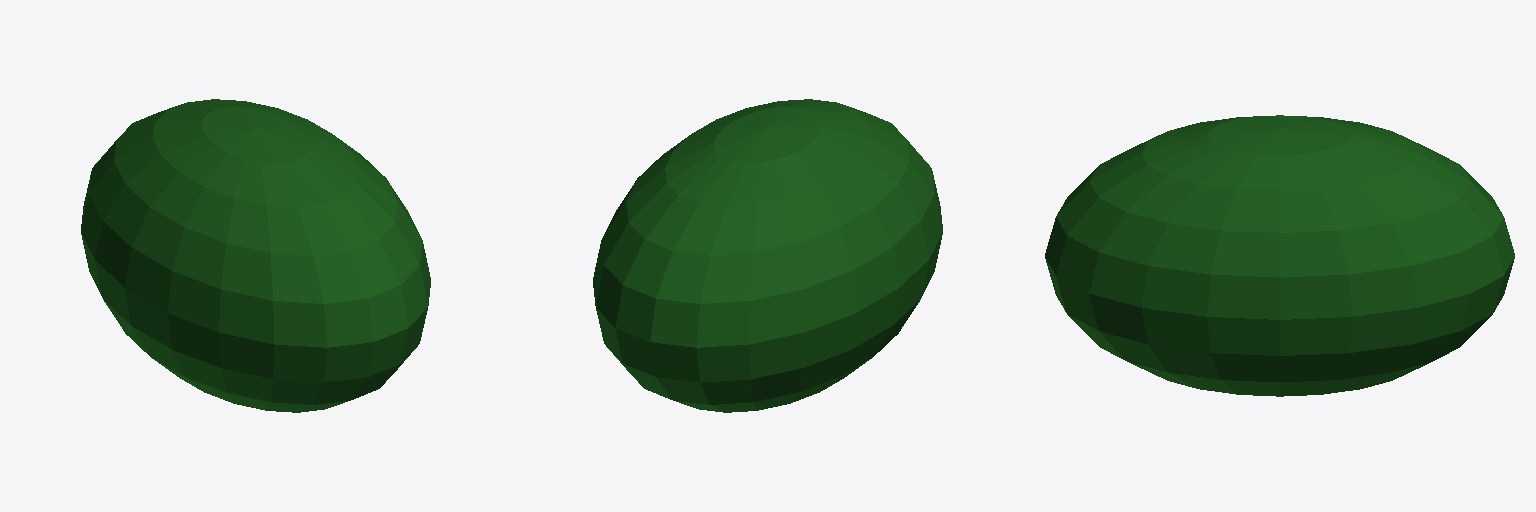
File: original-27.obj
3 renders of one model, left to right at view 1: azimuth 30°, elevation 25°; view 2: azimuth 150°, elevation 25°; view 3: azimuth 270°, elevation 25°, orthographic.
Visible parts, largest first — view 1: SimpleSphere02_1_2/SimpleSphere02_1_1/mesh7/mesh7-geometry#mesh7; view 2: SimpleSphere02_1_2/SimpleSphere02_1_1/mesh7/mesh7-geometry#mesh7; view 3: SimpleSphere02_1_2/SimpleSphere02_1_1/mesh7/mesh7-geometry#mesh7.
Boxes of the visible parts, box(x1,y1,x2,y2) form: SimpleSphere02_1_2/SimpleSphere02_1_1/mesh7/mesh7-geometry#mesh7: box(81, 99, 430, 412); SimpleSphere02_1_2/SimpleSphere02_1_1/mesh7/mesh7-geometry#mesh7: box(593, 99, 942, 412); SimpleSphere02_1_2/SimpleSphere02_1_1/mesh7/mesh7-geometry#mesh7: box(1045, 115, 1514, 396).
Size of the model in its own units: 0.527 by 0.4881 by 0.8195.